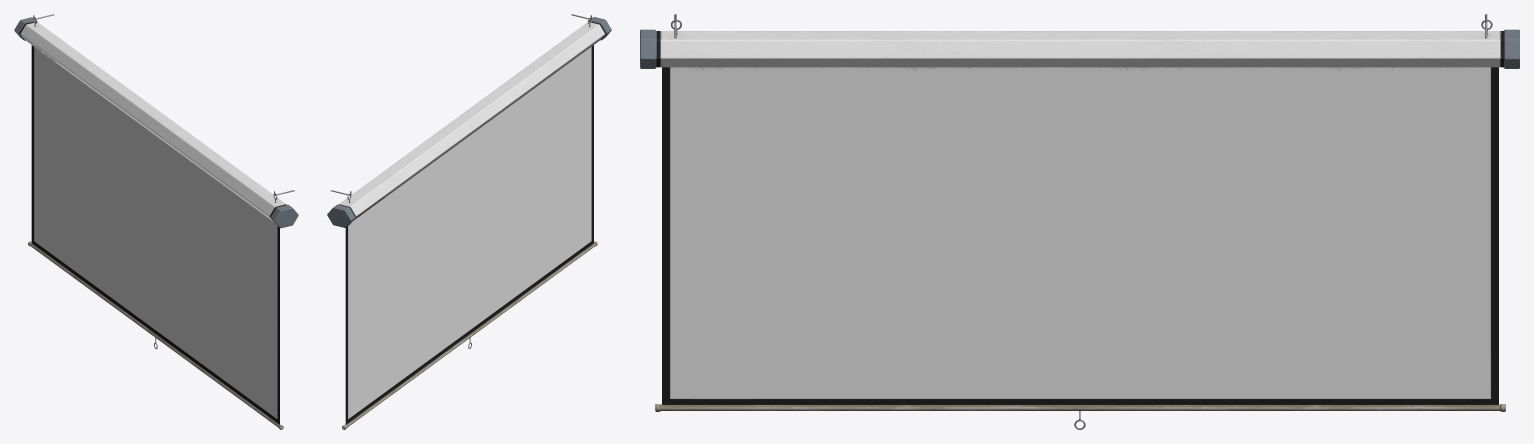
Rendered from projector_screen_7mb.glb.
The picture shows the model from 3 angles, left to right: view 1: azimuth 30°, elevation 25°; view 2: azimuth 150°, elevation 25°; view 3: azimuth 270°, elevation 25°; orthographic projection. The views are drawn at different scales.
Parts seen in each view (by area): view 1: Cylinder_1, Cylinder, Sweep_2_2; view 2: Cylinder_1, Cylinder, Sweep_2_2; view 3: Cylinder_1, Cylinder, Sweep_2_2.
Boxes of the visible parts, x1=… form: Cylinder_1: x1=31, y1=45, x2=279, y2=424; Cylinder: x1=14, y1=17, x2=298, y2=228; Sweep_2_2: x1=28, y1=241, x2=283, y2=429; Cylinder_1: x1=345, y1=45, x2=593, y2=424; Cylinder: x1=327, y1=17, x2=611, y2=227; Sweep_2_2: x1=342, y1=241, x2=597, y2=429; Cylinder_1: x1=662, y1=67, x2=1498, y2=404; Cylinder: x1=640, y1=29, x2=1519, y2=68; Sweep_2_2: x1=655, y1=404, x2=1505, y2=411.
Size of the model in its own units: 0.5374 by 4.19 by 8.06.
Materials: 1 (1 with a texture image).
